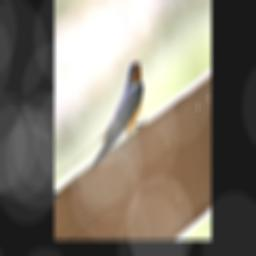Swallow: (63, 54, 154, 182)
